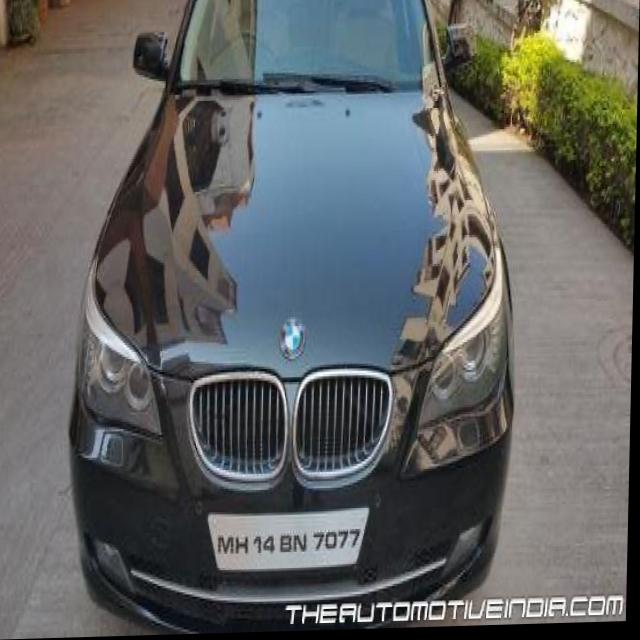licence: (207, 508, 369, 569)
